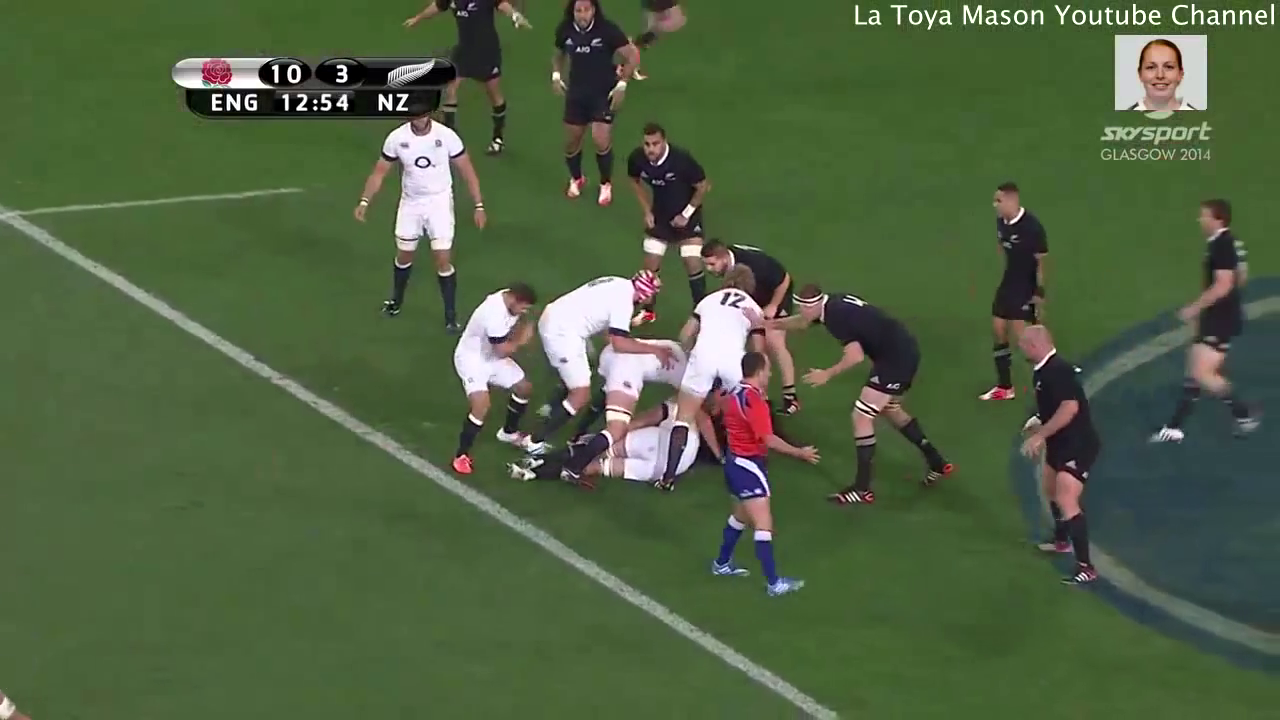player: (734, 276, 966, 514), (341, 88, 498, 343), (1132, 185, 1280, 451), (697, 343, 821, 605), (502, 256, 661, 460), (1001, 312, 1105, 594), (434, 273, 554, 492), (652, 258, 760, 495), (958, 160, 1062, 403), (544, 328, 709, 480), (396, 1, 536, 173), (538, 1, 649, 215), (693, 224, 813, 417), (606, 112, 716, 316)
